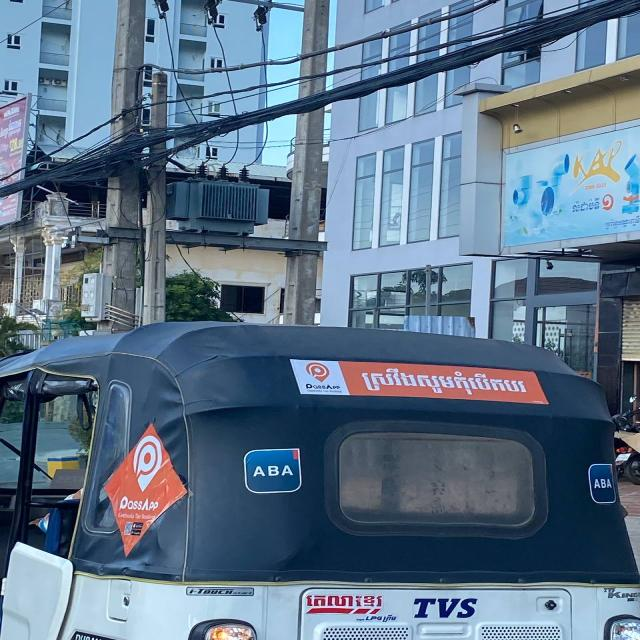Yolov11kh: (352, 362, 542, 400), (601, 193, 616, 213)
